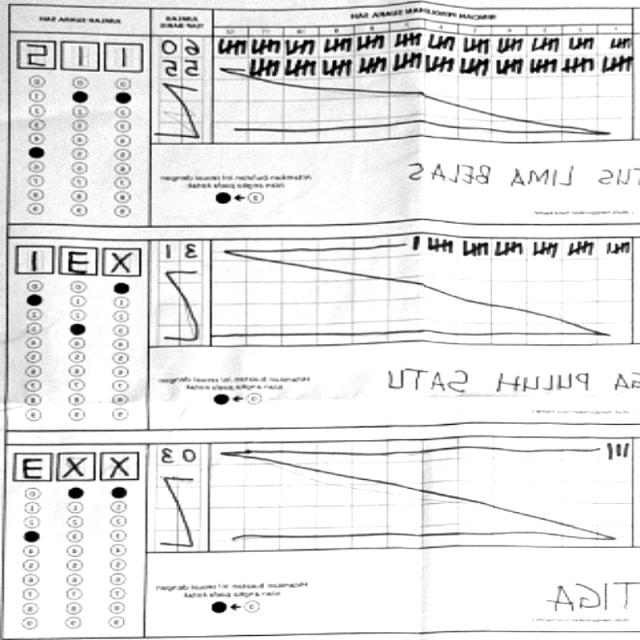Suara: (10, 447, 144, 483), (13, 243, 146, 279), (14, 39, 148, 74)
